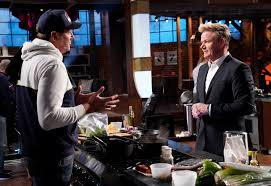Caution: (17, 9, 257, 132)
